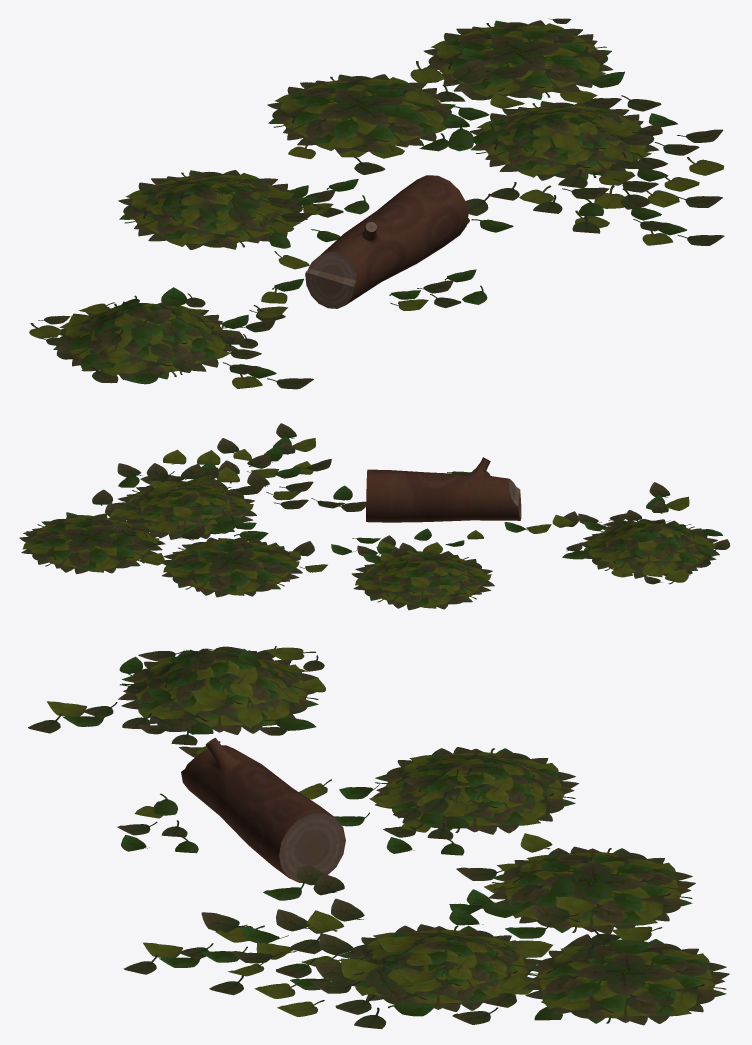
File: lily-log.glb
3 renders of one model, top to bottom at view 1: azimuth 30°, elevation 25°; view 2: azimuth 150°, elevation 25°; view 3: azimuth 270°, elevation 25°, orthographic. The views are drawn at different scales.
Bounding box in the file's own units: 91.97 × 9.27 × 71.84.
2 materials, 2 textured.
